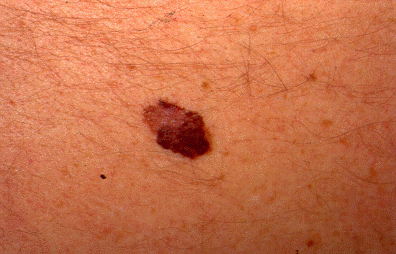melanoma: (108, 62, 230, 161)
